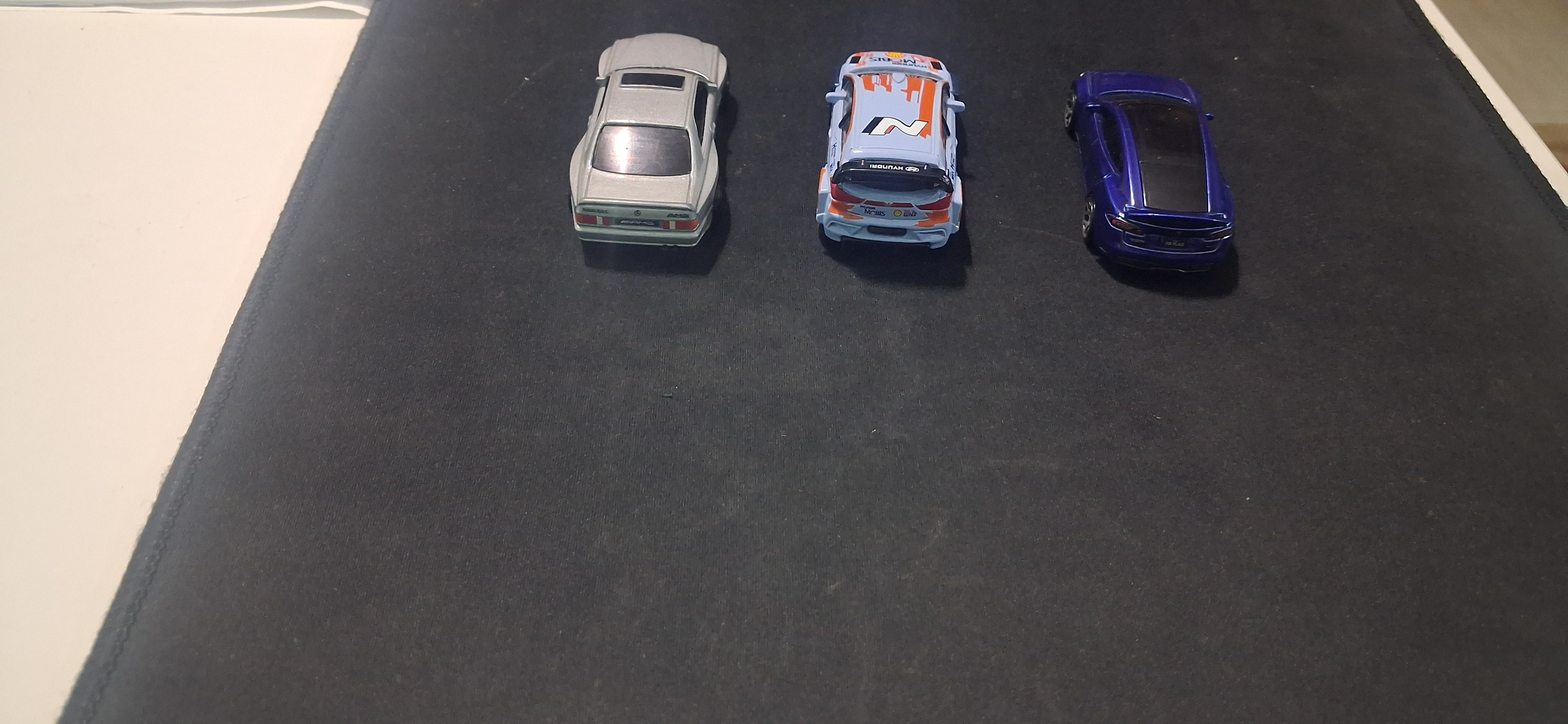Hyundai_I20_WRC: (793, 45, 994, 304)
Mercedes_Benz_560_SEC_AMG: (522, 16, 757, 308)
Tesla_Model_S_Plaid: (1029, 41, 1233, 349)
